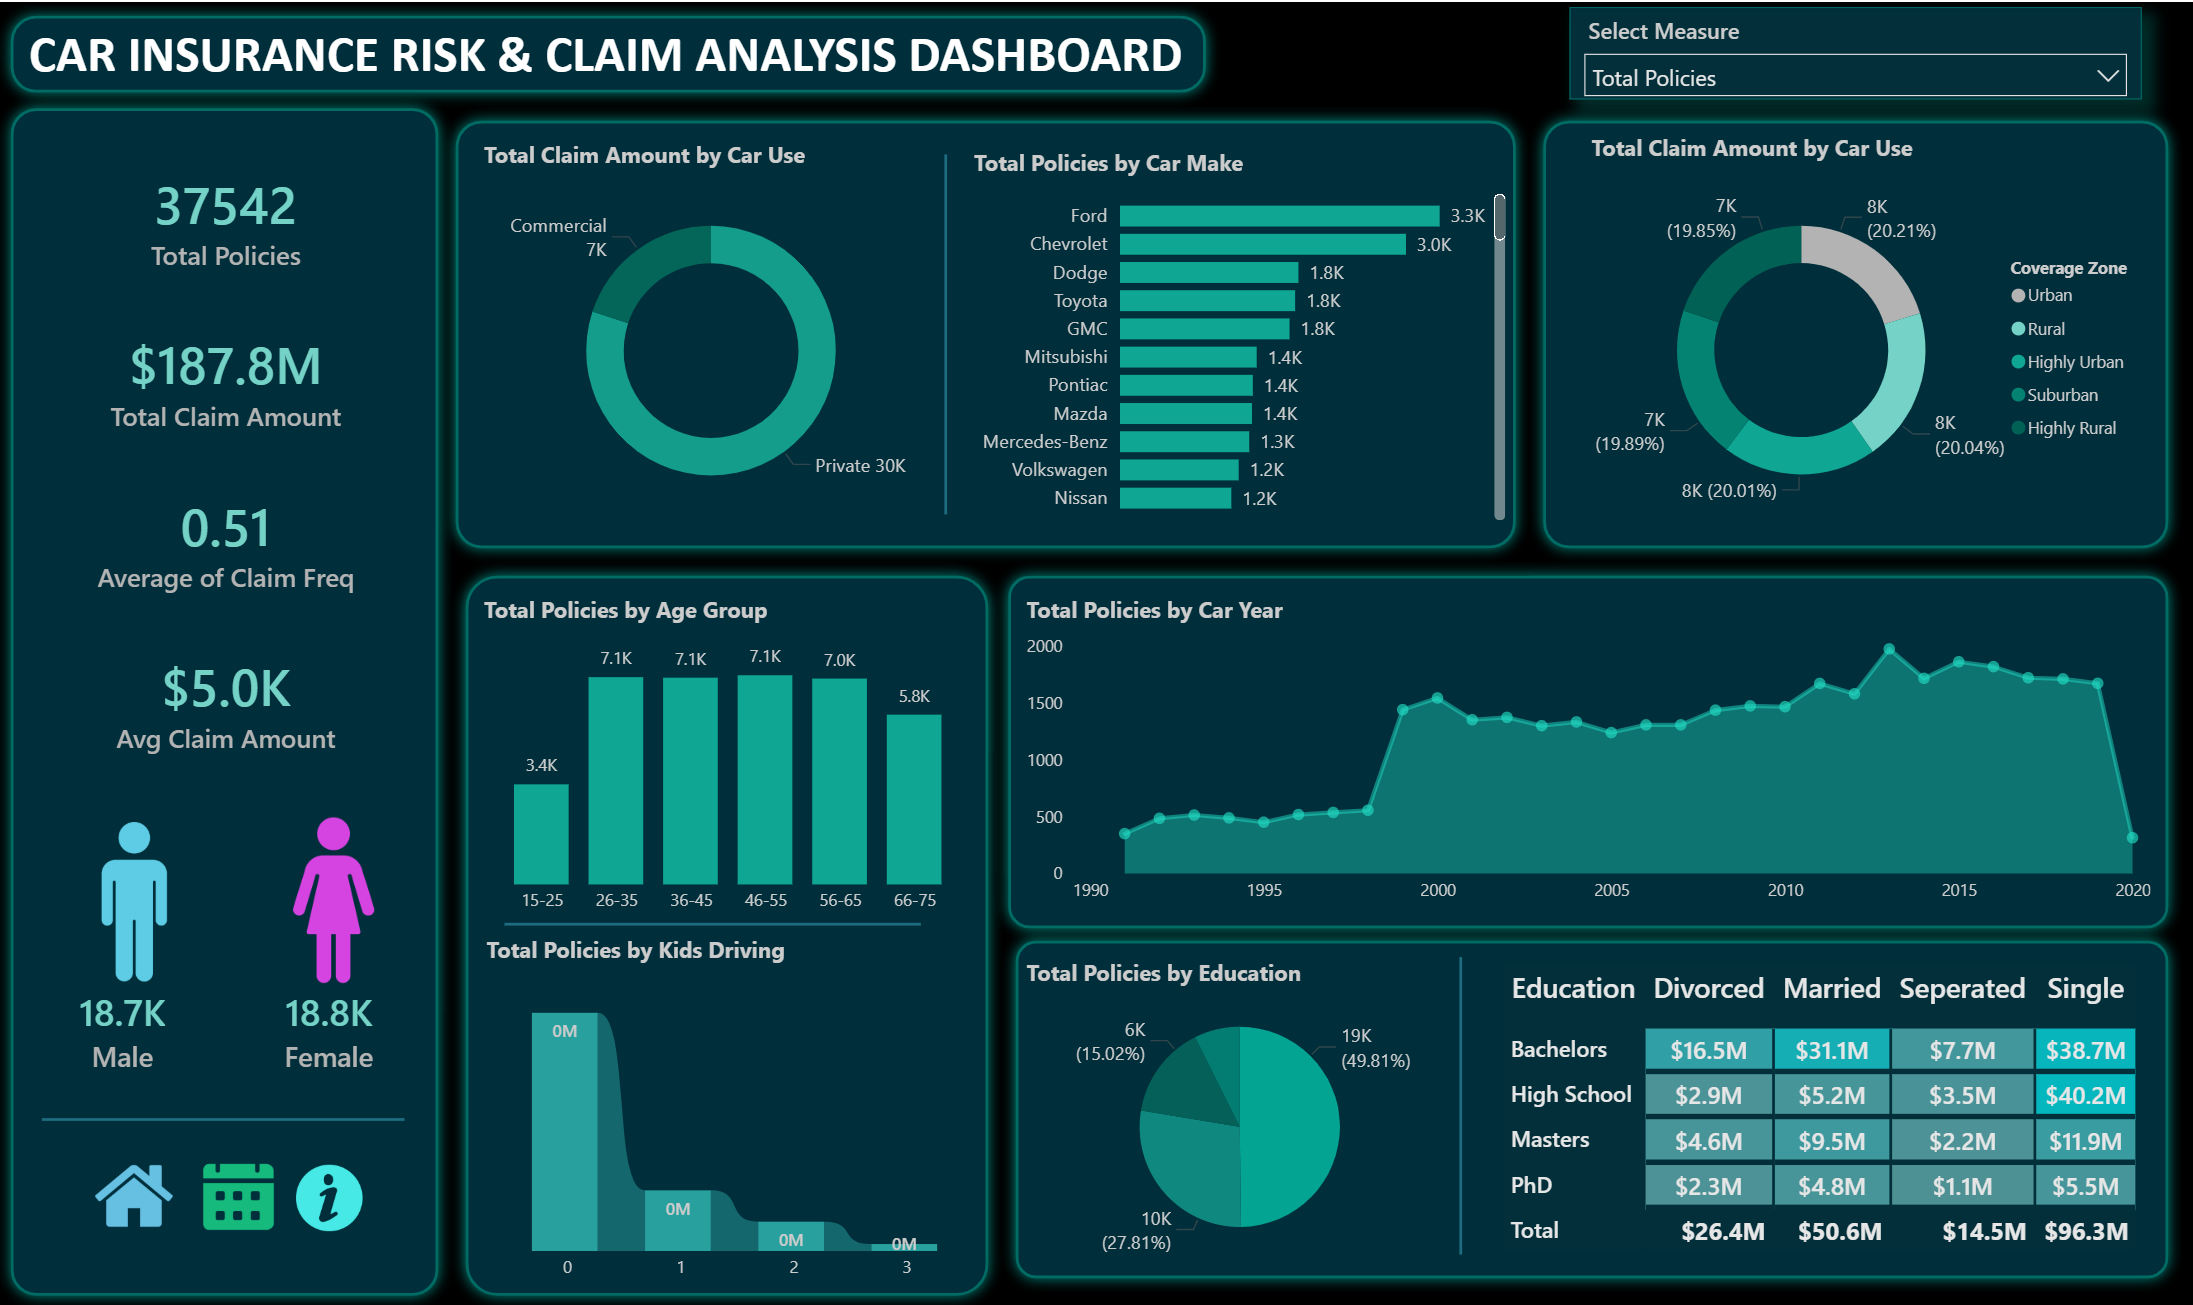

Layout of this report page (visuals, bound fields, positions):
{"tool":"powerbi","page":{"name":"Page 1","canvas":[1600,950],"ordinal":0},"visuals":[{"type":"shape","box":[0,0,888.7,75.8],"z":0},{"type":"textbox","box":[17.5,9.7,867.3,58.3],"z":1000},{"type":"shape","box":[0,67.2,330.7,883.1],"z":2000},{"type":"cardVisual","fields":{"Data":["Clean_Car_Insurance_Policy.Total Policies","Clean_Car_Insurance_Policy.Total Claim","Avg(Clean_Car_Insurance_Policy.Claim Freq)","Clean_Car_Insurance_Policy.Avg Claim Amount"]},"box":[16.5,92.2,300.2,484.6],"z":3000},{"type":"cardVisual","fields":{"Data":["Clean_Car_Insurance_Policy.Male Count","Clean_Car_Insurance_Policy.Female Count"]},"box":[9.5,695,314.4,106.4],"z":4000},{"type":"image","box":[42.6,595.7,115.8,115.8],"z":5000},{"type":"image","box":[165.5,576.8,158.4,153.7],"z":6000},{"type":"slicer","fields":{"Values":["Select Measure.Select Measure"]},"box":[1143,3.6,416.1,67.2],"z":7000},{"type":"shape","box":[323.5,76.3,790.5,330.7],"z":8000},{"type":"donutChart","title":"Total Claim Amount by Car Use","fields":{"Y":["Clean_Car_Insurance_Policy.Total Policies"],"Category":["Clean_Car_Insurance_Policy.Car Use"]},"box":[348.9,99.9,339.8,285.3],"z":9000},{"type":"clusteredBarChart","fields":{"Y":["Clean_Car_Insurance_Policy.Total Policies"],"Category":["Clean_Car_Insurance_Policy.Car Make"]},"box":[705.1,105.4,396.1,276.2],"z":10000},{"type":"shape","box":[1113.9,76.3,474.3,330.7],"z":11000},{"type":"donutChart","title":"Total Claim Amount by Car Use","fields":{"Y":["Clean_Car_Insurance_Policy.Total Policies"],"Category":["Clean_Car_Insurance_Policy.Coverage Zone"]},"box":[1153.4,94.7,416.7,295.5],"z":12000},{"type":"shape","box":[330.7,407,399.8,543.3],"z":13000},{"type":"clusteredColumnChart","fields":{"Y":["Clean_Car_Insurance_Policy.Total Policies"],"Category":["Clean_Car_Insurance_Policy.Age Group"]},"box":[348.5,429.9,365.5,240.5],"z":14000},{"type":"ribbonChart","fields":{"Y":["Clean_Car_Insurance_Policy.Total Policies"],"Category":["Clean_Car_Insurance_Policy.Kids Driving"]},"box":[350.7,677.8,374.3,259.9],"z":15000},{"type":"shape","box":[725,407,863.1,276.2],"z":16000},{"type":"areaChart","fields":{"Y":["Clean_Car_Insurance_Policy.Total Policies"],"Category":["Clean_Car_Insurance_Policy.Car Year"]},"box":[743.2,430.7,826.8,232.6],"z":17000},{"type":"shape","box":[730.5,672.3,857.7,265.3],"z":18000},{"type":"pieChart","fields":{"Y":["Clean_Car_Insurance_Policy.Total Policies"],"Category":["Clean_Car_Insurance_Policy.Education"]},"box":[743.2,694.2,319.8,225.3],"z":19000},{"type":"pivotTable","fields":{"Rows":["Clean_Car_Insurance_Policy.Education"],"Columns":["Clean_Car_Insurance_Policy.Marital Status"],"Values":["Clean_Car_Insurance_Policy.Total Claim"]},"box":[1090.3,694.2,472.5,241.7],"z":20000},{"type":"shape","box":[32.7,730.5,263.5,163.5],"z":21000},{"type":"shape","box":[368.8,588.7,302.6,163.1],"z":22000},{"type":"shape","box":[912.2,694.2,303.5,216.2],"z":23000},{"type":"shape","box":[537.9,110.8,303.5,261.7],"z":24000},{"type":"image","box":[58.4,839.1,82.6,56.5],"z":25000},{"type":"image","box":[136.7,841.3,78.3,54.4],"z":26000},{"type":"image","box":[204.1,836.9,76.1,63.1],"z":27000}]}

Visuals, with their boxes in screenshot pixels (x1, y1, x2, y2), scaled from the page's 1600x950 canvas onto the 2193x1305 screenshot:
shape: Rect(0, 0, 1218, 104)
textbox: Rect(24, 13, 1213, 93)
shape: Rect(0, 92, 453, 1304)
cardVisual - Clean_Car_Insurance_Policy.Total Policies x Clean_Car_Insurance_Policy.Total Claim: Rect(23, 127, 434, 792)
cardVisual - Clean_Car_Insurance_Policy.Male Count x Clean_Car_Insurance_Policy.Female Count: Rect(13, 955, 444, 1101)
image: Rect(58, 818, 217, 977)
image: Rect(227, 792, 444, 1003)
slicer - Select Measure.Select Measure: Rect(1567, 5, 2137, 97)
shape: Rect(443, 105, 1527, 559)
"Total Claim Amount by Car Use" donutChart: Rect(478, 137, 944, 529)
clusteredBarChart - Clean_Car_Insurance_Policy.Total Policies x Clean_Car_Insurance_Policy.Car Make: Rect(966, 145, 1509, 524)
shape: Rect(1527, 105, 2177, 559)
"Total Claim Amount by Car Use" donutChart: Rect(1581, 130, 2152, 536)
shape: Rect(453, 559, 1001, 1304)
clusteredColumnChart - Clean_Car_Insurance_Policy.Total Policies x Clean_Car_Insurance_Policy.Age Group: Rect(478, 591, 979, 921)
ribbonChart - Clean_Car_Insurance_Policy.Total Policies x Clean_Car_Insurance_Policy.Kids Driving: Rect(481, 931, 994, 1288)
shape: Rect(994, 559, 2177, 939)
areaChart - Clean_Car_Insurance_Policy.Total Policies x Clean_Car_Insurance_Policy.Car Year: Rect(1019, 592, 2152, 911)
shape: Rect(1001, 924, 2177, 1288)
pieChart - Clean_Car_Insurance_Policy.Total Policies x Clean_Car_Insurance_Policy.Education: Rect(1019, 954, 1457, 1263)
pivotTable - Clean_Car_Insurance_Policy.Education x Clean_Car_Insurance_Policy.Marital Status: Rect(1494, 954, 2142, 1286)
shape: Rect(45, 1003, 406, 1228)
shape: Rect(505, 809, 920, 1033)
shape: Rect(1250, 954, 1666, 1251)
shape: Rect(737, 152, 1153, 512)
image: Rect(80, 1153, 193, 1230)
image: Rect(187, 1156, 295, 1230)
image: Rect(280, 1150, 384, 1236)
